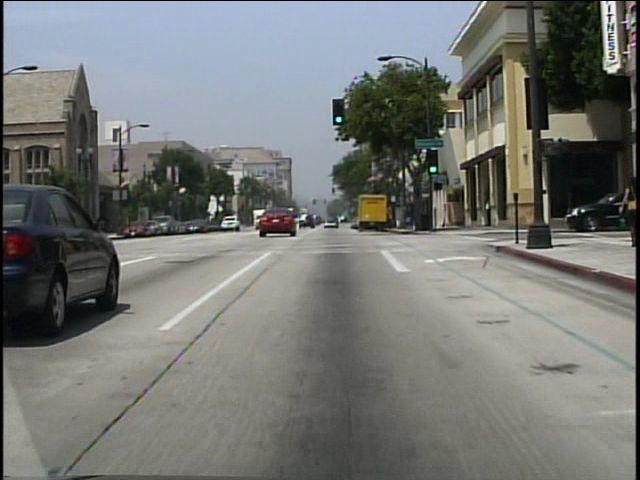person: (617, 179, 639, 252), (482, 196, 493, 230)
